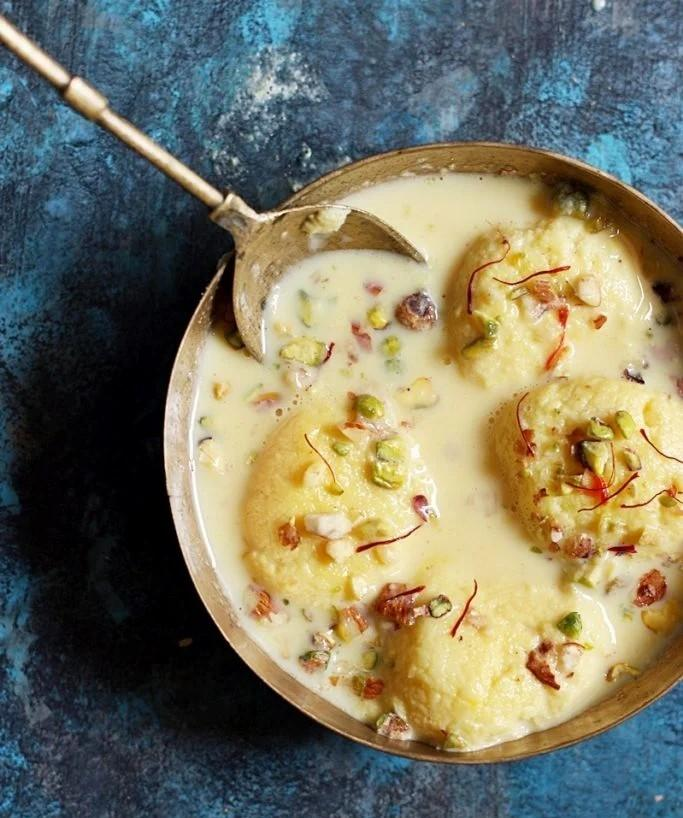RasMalai: (192, 169, 683, 753)
